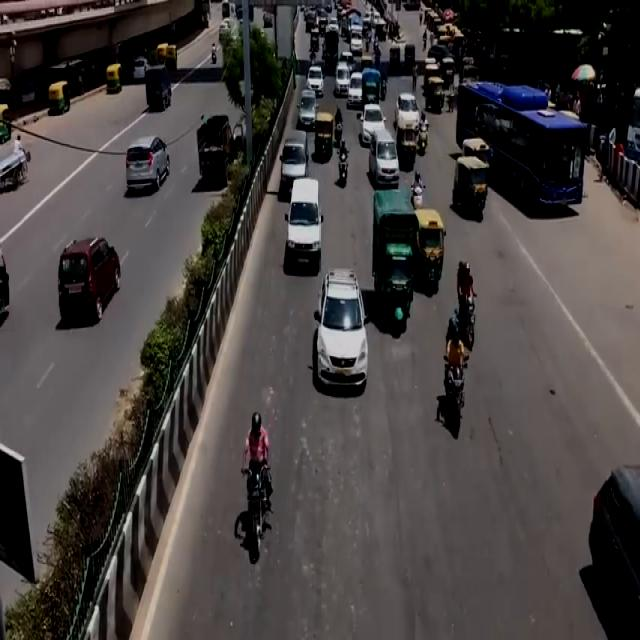BUS: (456, 76, 584, 223)
MOTORCYCLE: (247, 465, 272, 565), (443, 352, 466, 440), (462, 288, 480, 348)
TRUCK: (0, 114, 29, 196)
